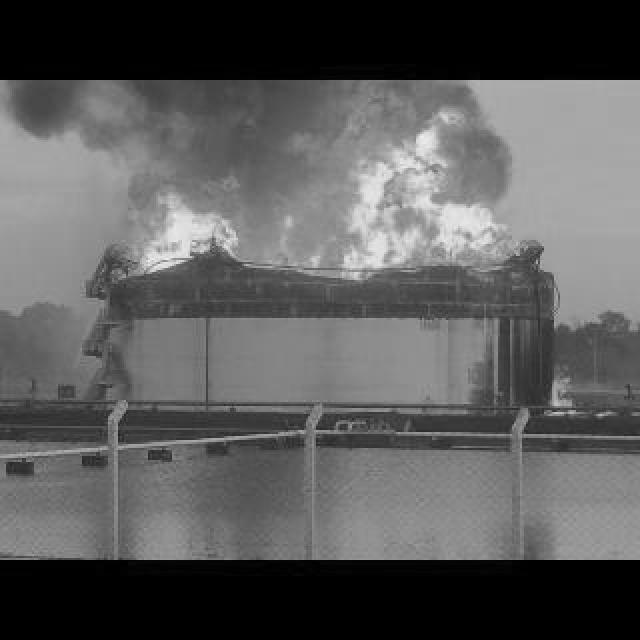Fire: (116, 110, 502, 280), (546, 370, 576, 412)
Smoke: (10, 80, 296, 178)
